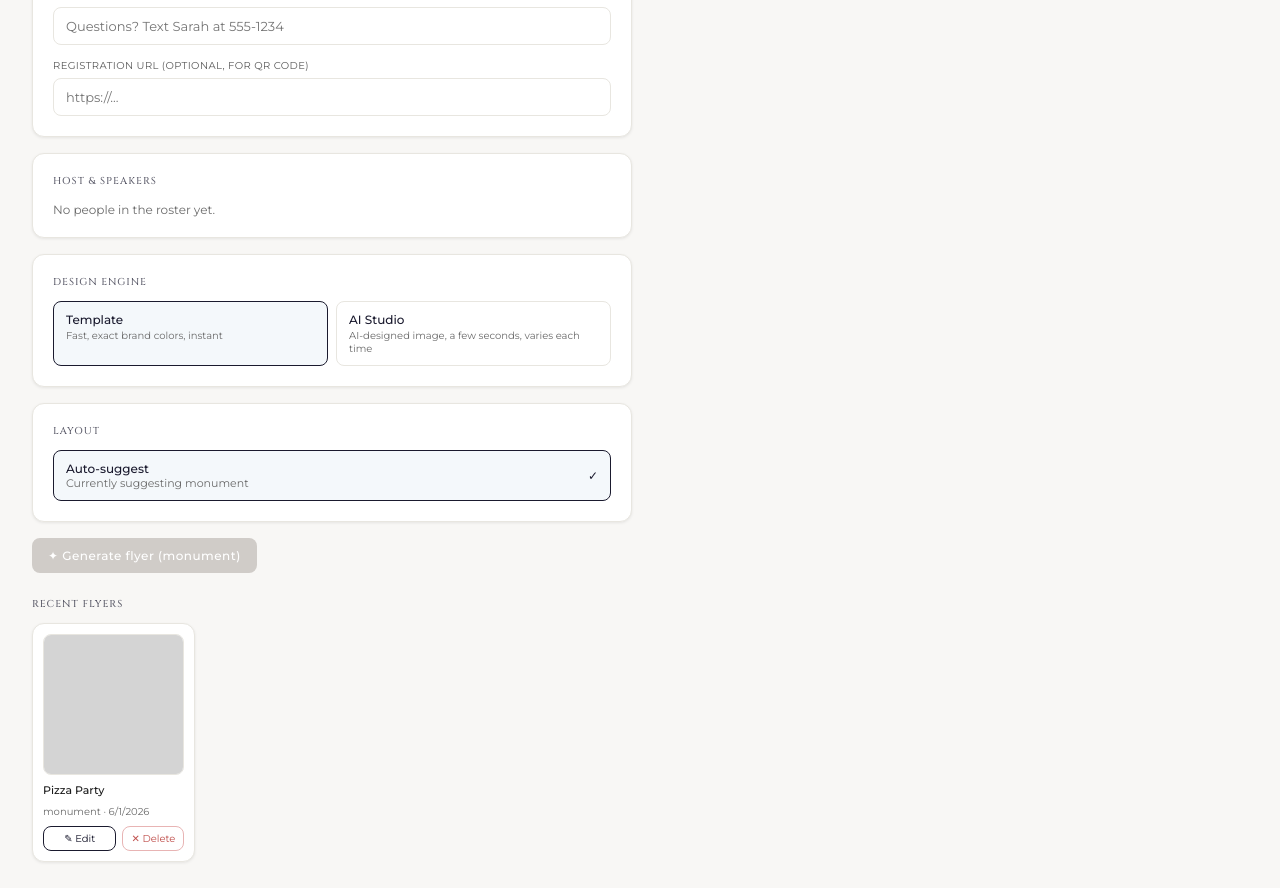
Scenario: clicking Edit on a flyer with raw date fields restores date/time/rsvp_by and shows the double-check reminder
The image size is (1280, 888).
(page scrolled)
Click the button "✎ Edit" at point(80, 839), box [43, 826, 116, 851]
(page scrolled)
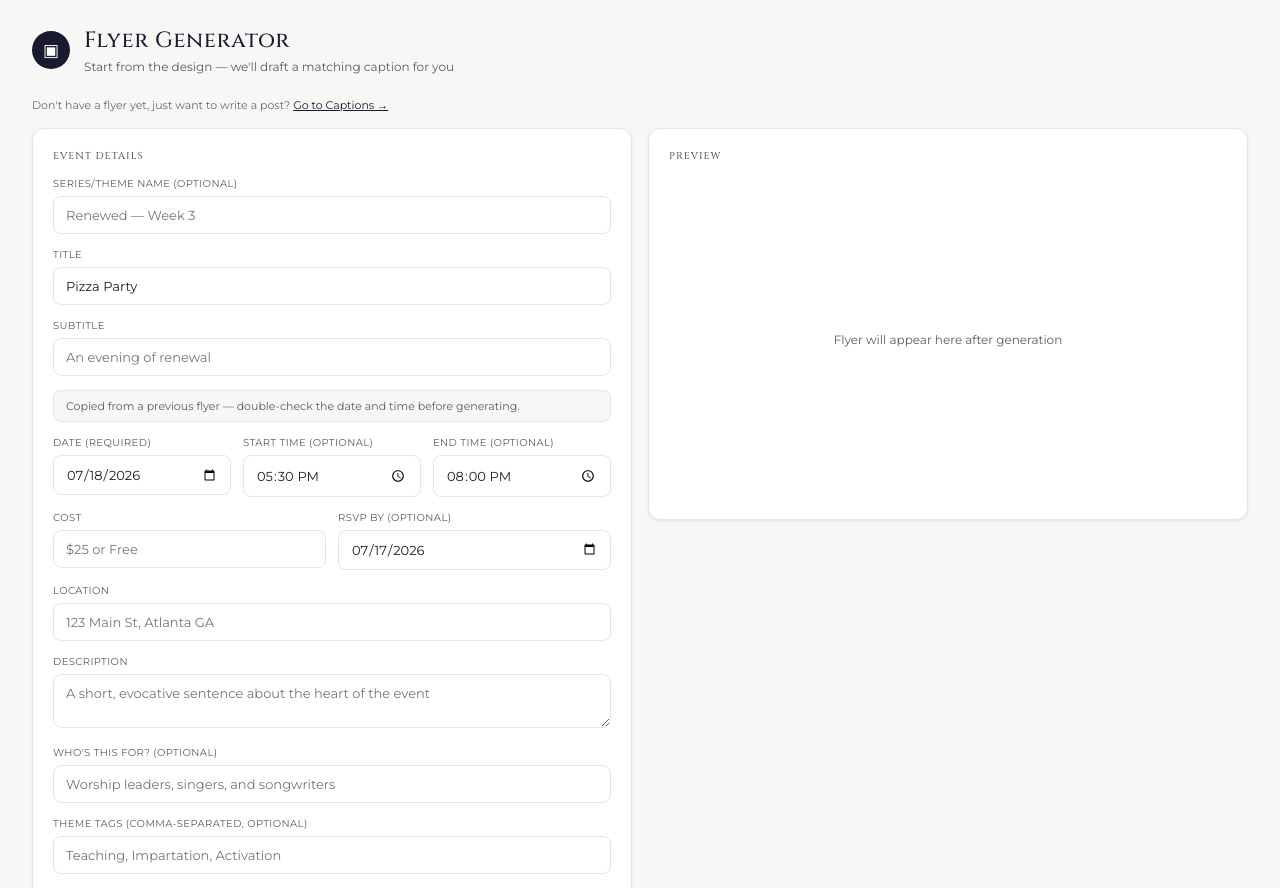
Expected: the date field named "Event date" holds "2026-07-18", [53, 455, 231, 495]
Expected: the time field named "Event start time" holds "17:30", [243, 455, 421, 497]
Expected: the time field named "Event end time" holds "20:00", [433, 455, 611, 497]
